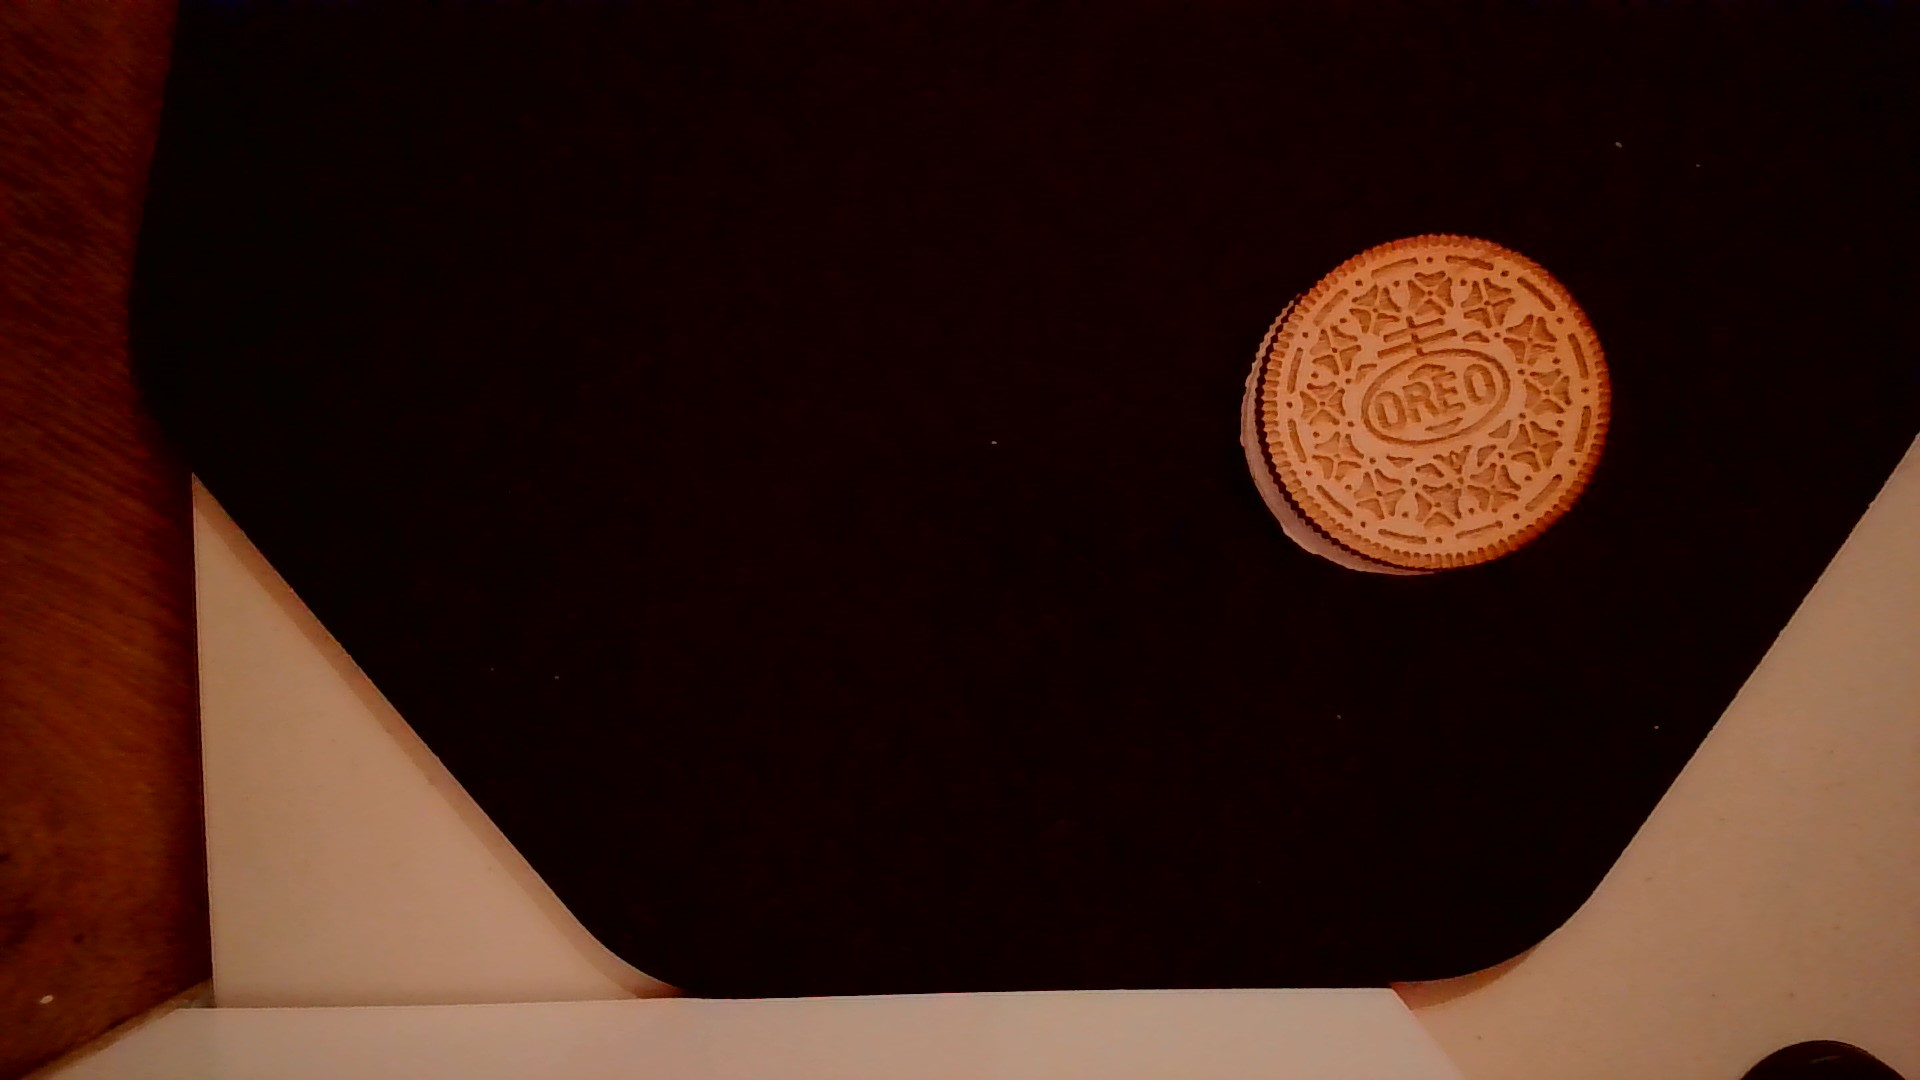Décalé: (1232, 282, 1439, 579)
Oréo: (1224, 223, 1613, 587)
